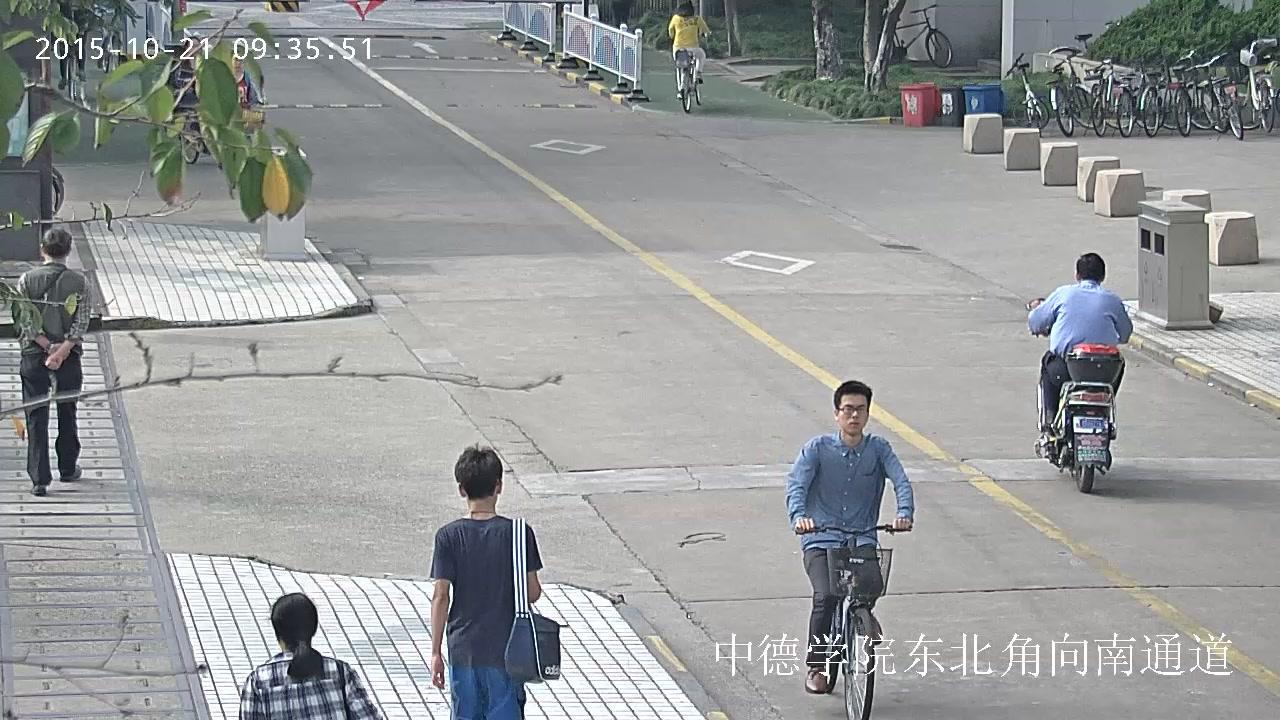person: (785, 380, 914, 720), (786, 380, 913, 696), (428, 443, 561, 720), (1027, 250, 1134, 491), (11, 228, 91, 498), (1026, 249, 1134, 439), (238, 592, 383, 720), (177, 49, 267, 164), (668, 0, 712, 115), (217, 49, 266, 146), (668, 0, 712, 100)
